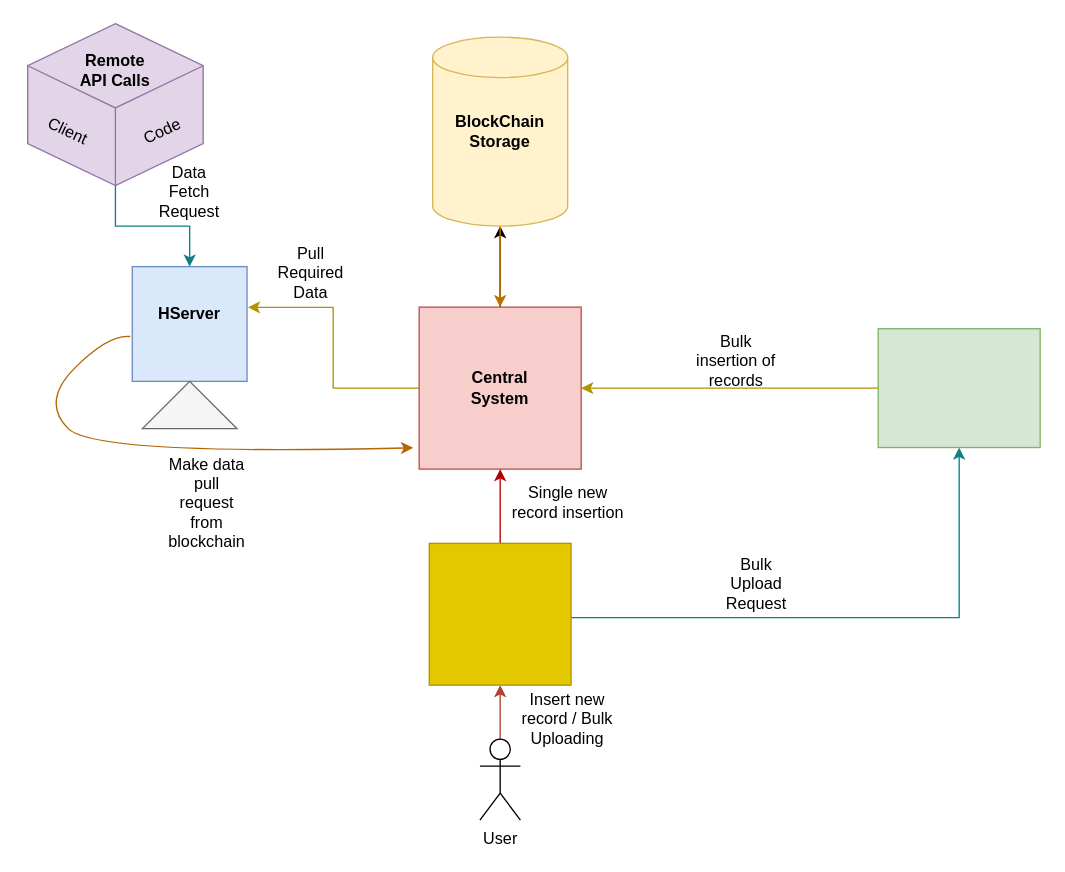
Image size: 1065x872. Some labels were removed from this diagram. Each missing label, with the centre of its shape:
Bulk Uploader: [958,387]
Client SIde GUI: [499,613]
